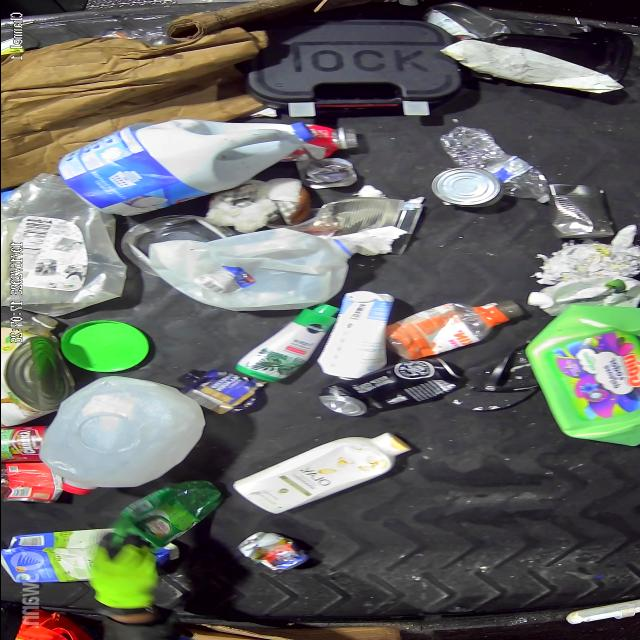can: (318, 362, 444, 418), (0, 328, 70, 416), (0, 536, 88, 582), (538, 180, 604, 237), (228, 534, 310, 574), (424, 164, 498, 206), (0, 425, 52, 460)
milk_jug: (49, 120, 287, 200), (39, 380, 192, 500), (145, 240, 331, 316)
non_white_jug: (517, 307, 640, 446)
plastic_bottle: (438, 124, 545, 201)
